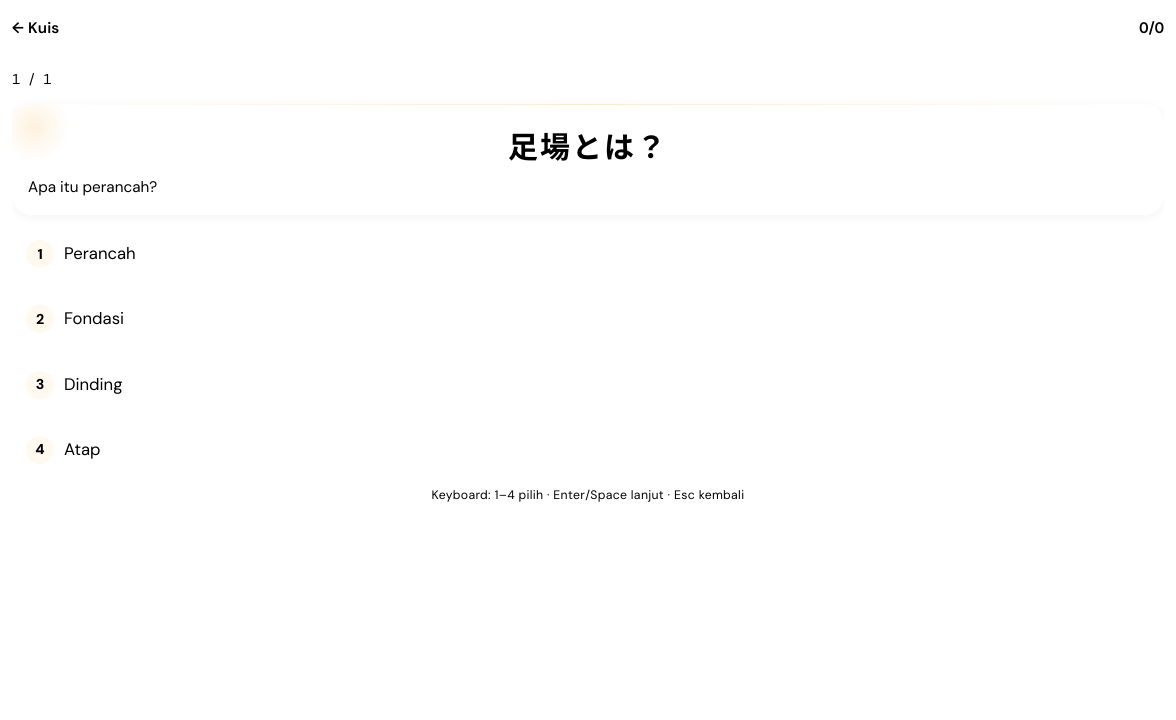
Test case: QuizShell › answer selection › shows explanation after selecting an answer
Click the text "Perancah". click: (100, 253)
box: [64,242,136,264]
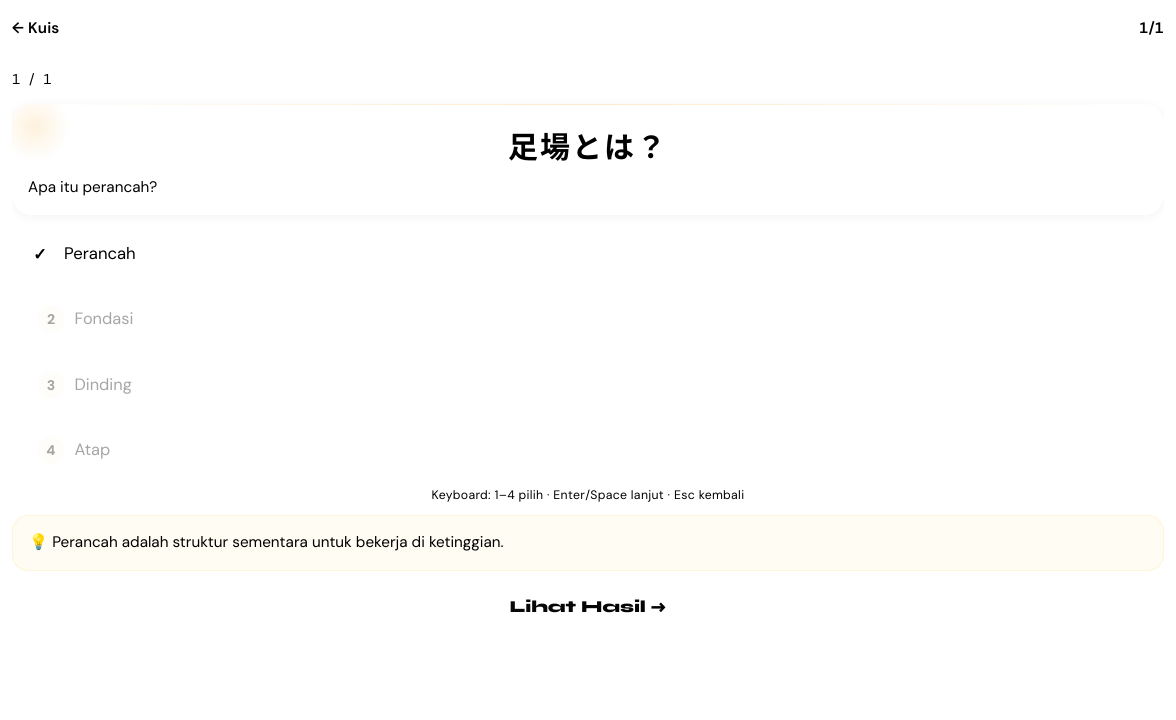
Check: the text "Perancah adalah struktur" is shown, box [52,532,504,552]
